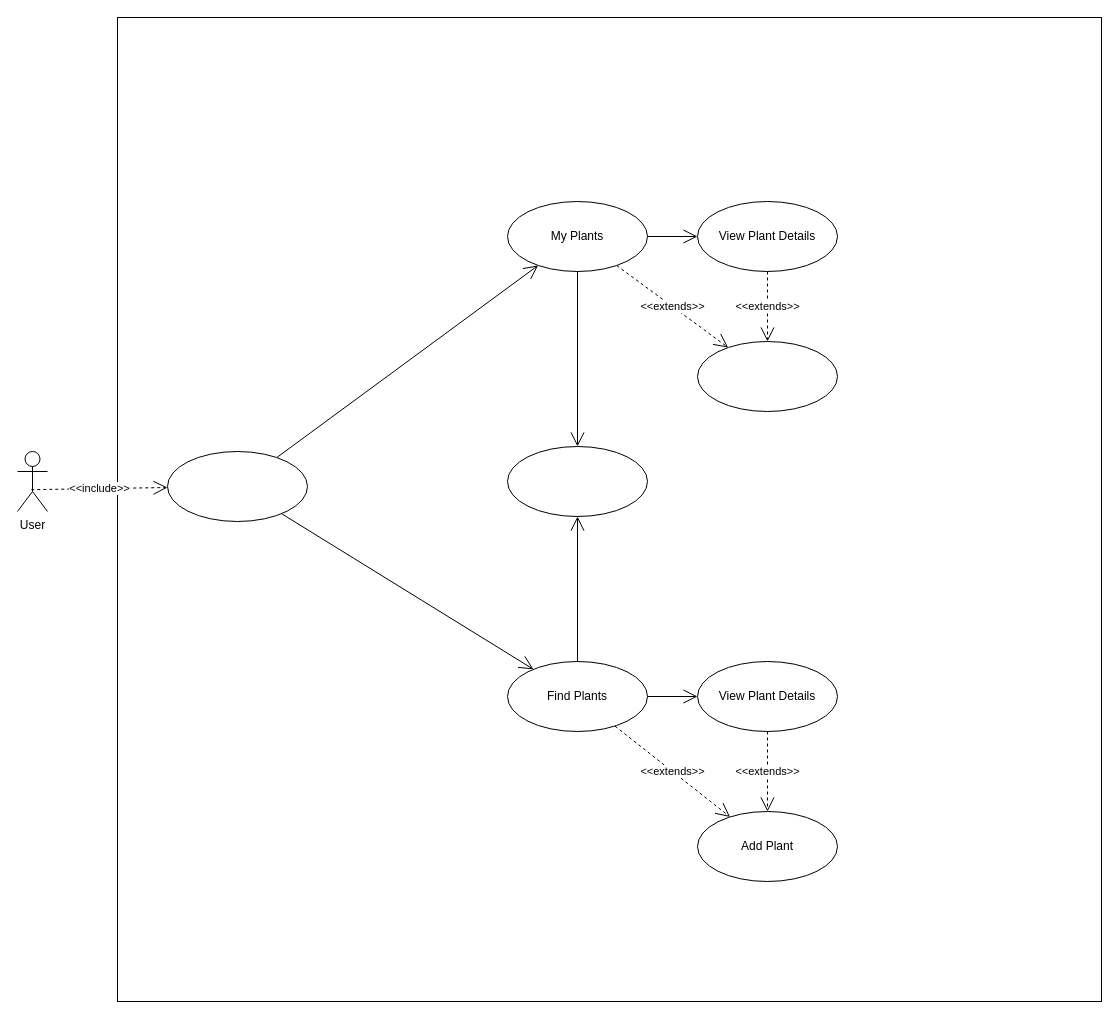
The diagram is 1119 pixels wide and 1019 high, and some of its shapes have lost their labels. Each missing label, with the centre of its shape:
Remove Plant: the point at 767,376
Settings: the point at 577,481
User validation: the point at 237,486
